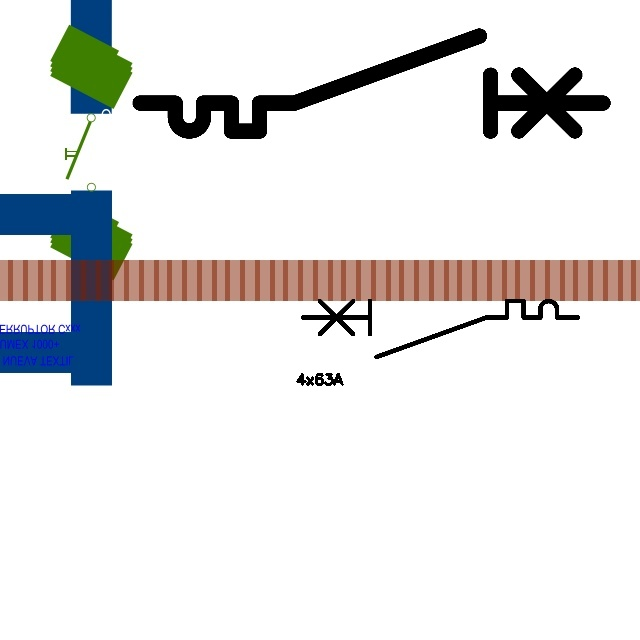interruptor_termomagnetico: (128, 24, 614, 143), (296, 294, 585, 364)
